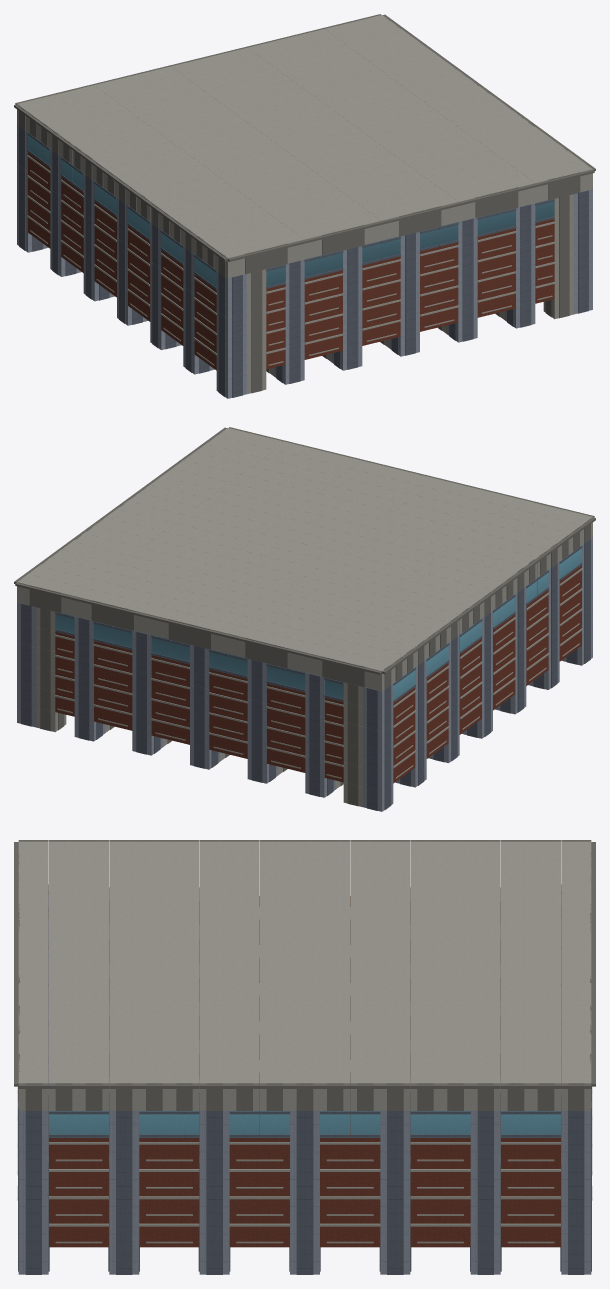
The model's file is block.fbx.
3 views of the same model, one above another, from view 1: azimuth 30°, elevation 25°; view 2: azimuth 150°, elevation 25°; view 3: azimuth 270°, elevation 25° (orthographic). The views are drawn at different scales.
Visible parts, largest first — view 1: concrete_x00_y06_z18, steel_x00_y00_z18, concrete_x04_y06_z18, concrete_x08_y06_z18, concrete_x12_y06_z18, concrete_x16_y06_z18, steel_x12_y00_z18, steel_x03_y00_z18, steel_x06_y00_z18, steel_x15_y00_z18, steel_x09_y00_z18, steel_x18_y00_z18 (+120 smaller); view 2: concrete_x00_y06_z00, steel_x00_y00_z00, concrete_x04_y06_z00, concrete_x08_y06_z00, concrete_x12_y06_z00, concrete_x16_y06_z00, steel_x12_y00_z00, steel_x03_y00_z00, steel_x06_y00_z00, steel_x15_y00_z00, steel_x09_y00_z00, steel_x18_y00_z00 (+120 smaller); view 3: steel_x18_y00_z06, steel_x18_y00_z12, steel_x18_y00_z00, steel_x18_y00_z18, steel_x18_y00_z03, steel_x18_y00_z15, steel_x18_y00_z09, concrete_x16_y06_z00, concrete_x16_y06_z18, concrete_x16_y06_z03, concrete_x16_y06_z04, concrete_x16_y06_z05 (+133 smaller).
Part boxes in pixels (x1,y1,x2,y2): concrete_x00_y06_z18: (213,231,306,277); steel_x00_y00_z18: (216,310,246,398); concrete_x04_y06_z18: (294,212,383,259); concrete_x08_y06_z18: (371,194,460,240); concrete_x12_y06_z18: (448,175,536,221); concrete_x16_y06_z18: (524,161,595,202); steel_x12_y00_z18: (447,257,477,342); steel_x03_y00_z18: (274,300,304,384); steel_x06_y00_z18: (332,286,362,370); steel_x15_y00_z18: (505,243,535,328); steel_x09_y00_z18: (389,271,419,356); steel_x18_y00_z18: (573,229,592,314); concrete_x00_y06_z00: (303,644,396,690); steel_x00_y00_z00: (363,723,393,811); concrete_x04_y06_z00: (226,625,315,672); concrete_x08_y06_z00: (149,607,238,653); concrete_x12_y06_z00: (73,588,161,634); concrete_x16_y06_z00: (14,574,85,615); steel_x12_y00_z00: (132,670,162,755); steel_x03_y00_z00: (305,713,335,797); steel_x06_y00_z00: (247,699,277,783); steel_x15_y00_z00: (74,656,104,741); steel_x09_y00_z00: (190,684,220,769); steel_x18_y00_z00: (17,642,36,727); steel_x18_y00_z06: (379,1156,411,1274); steel_x18_y00_z12: (198,1156,230,1274); steel_x18_y00_z00: (560,1156,591,1274); steel_x18_y00_z18: (18,1156,49,1274); steel_x18_y00_z03: (470,1156,501,1274); steel_x18_y00_z15: (108,1156,139,1274); steel_x18_y00_z09: (289,1165,320,1274); concrete_x16_y06_z00: (561,1045,595,1110); concrete_x16_y06_z18: (14,1045,48,1110); concrete_x16_y06_z03: (470,1045,500,1110); concrete_x16_y06_z04: (440,1045,470,1110); concrete_x16_y06_z05: (410,1045,440,1110).
Size of the model in its own units: 57.94 by 20.99 by 57.94.
Materials: 1 (1 with a texture image).
